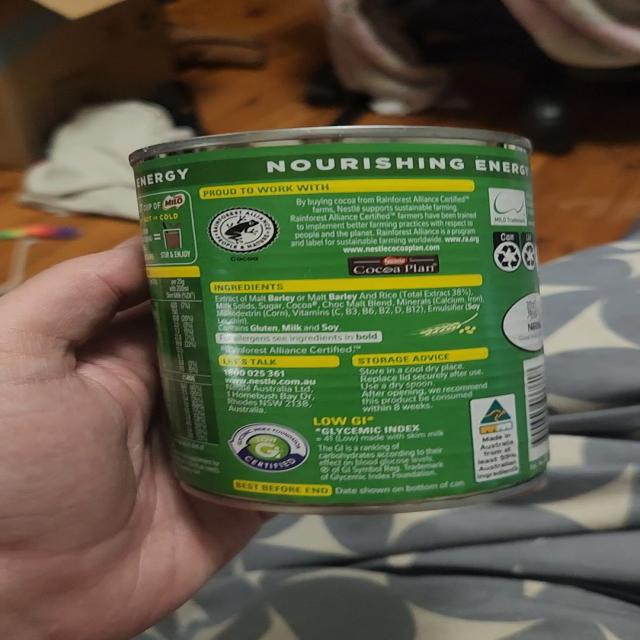nestle_milo_tin: (129, 127, 546, 512)
